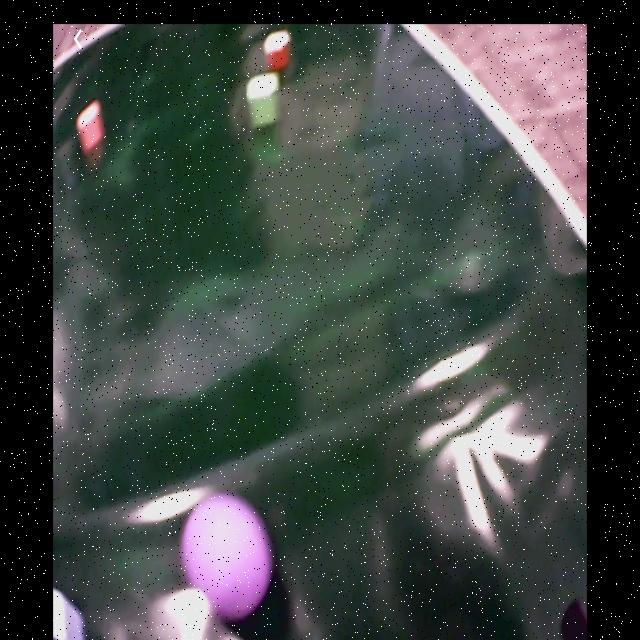ball: (181, 496, 272, 621)
